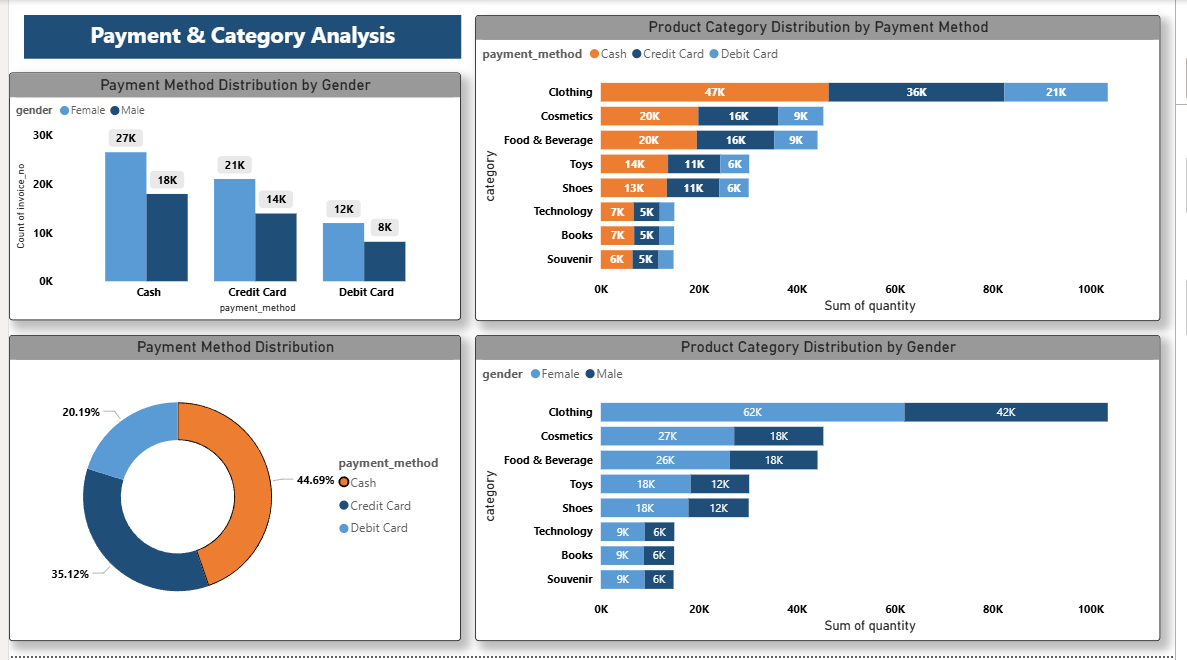

The page's visual inventory and layout, read from the dashboard file:
{"tool":"powerbi","page":{"name":"Payment & Category Analysis","canvas":[1280,720],"ordinal":7},"visuals":[{"type":"clusteredColumnChart","title":"Payment Method Distribution by Gender","fields":{"Category":["customer_data.payment_method"],"Y":["CountNonNull(customer_data.invoice_no)"],"Series":["customer_data.gender"]},"box":[0,80,496,272],"z":0},{"type":"barChart","title":"Product Category Distribution by Payment Method","fields":{"Category":["customer_data.category"],"Y":["Sum(customer_data.quantity)"],"Series":["customer_data.payment_method"]},"box":[512,16,752,336],"z":1000},{"type":"donutChart","title":"Payment Method Distribution","fields":{"Category":["customer_data.payment_method"],"Y":["CountNonNull(customer_data.invoice_no)"]},"box":[0,368,496,336],"z":2000},{"type":"barChart","title":"Product Category Distribution by Gender","fields":{"Category":["customer_data.category"],"Y":["Sum(customer_data.quantity)"],"Series":["customer_data.gender"]},"box":[512,368,752,336],"z":3000},{"type":"textbox","box":[16,16,480,48],"z":4000}]}

Visuals, with their boxes in screenshot pixels (x1, y1, x2, y2), scaled from the page's 1280x720 canvas onto the 1187x660 screenshot:
"Payment Method Distribution by Gender" clusteredColumnChart: x1=0, y1=73, x2=460, y2=323
"Product Category Distribution by Payment Method" barChart: x1=475, y1=15, x2=1172, y2=323
"Payment Method Distribution" donutChart: x1=0, y1=337, x2=460, y2=645
"Product Category Distribution by Gender" barChart: x1=475, y1=337, x2=1172, y2=645
textbox: x1=15, y1=15, x2=460, y2=59
